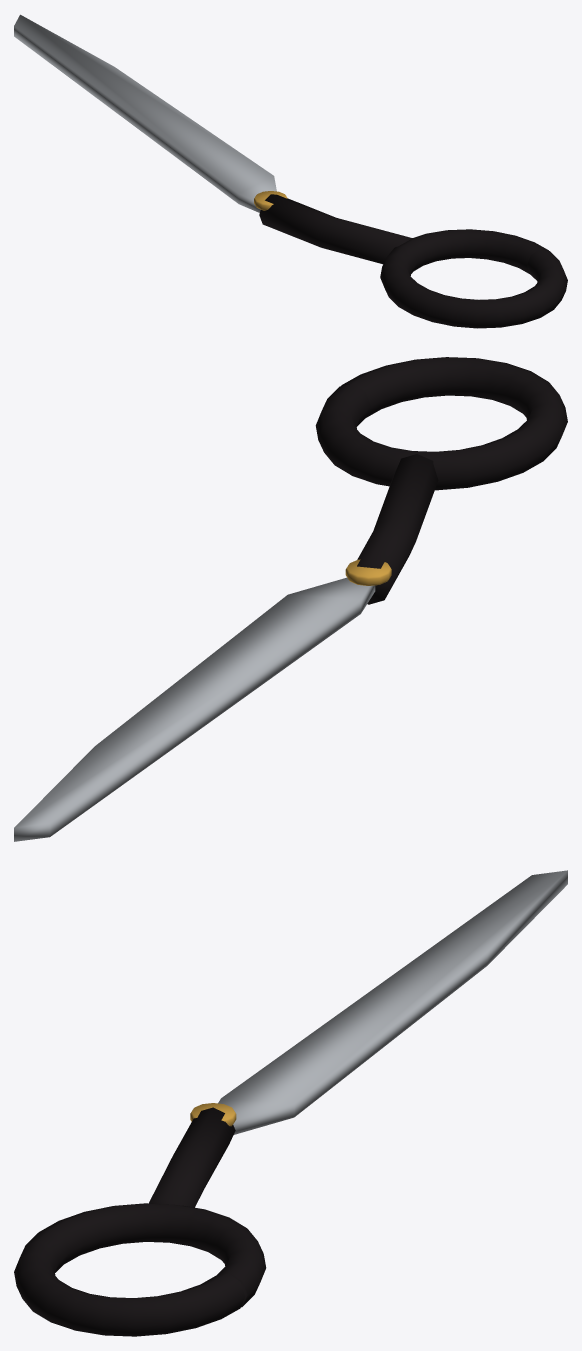
The model's file is shears_a.glb.
3 views of the same model, one above another, from view 1: azimuth 30°, elevation 25°; view 2: azimuth 150°, elevation 25°; view 3: azimuth 330°, elevation 25° (orthographic). The views are drawn at different scales.
Visible parts, largest first — view 1: prop_shears_a_lacquer, prop_shears_a_steel; view 2: prop_shears_a_lacquer, prop_shears_a_steel, prop_shears_a_brass; view 3: prop_shears_a_lacquer, prop_shears_a_steel.
Boxes of the visible parts, x1=… form: prop_shears_a_lacquer: x1=259, y1=194, x2=567, y2=328; prop_shears_a_steel: x1=14, y1=14, x2=276, y2=212; prop_shears_a_lacquer: x1=315, y1=357, x2=567, y2=604; prop_shears_a_steel: x1=14, y1=577, x2=375, y2=841; prop_shears_a_brass: x1=345, y1=559, x2=391, y2=585; prop_shears_a_lacquer: x1=14, y1=1107, x2=266, y2=1336; prop_shears_a_steel: x1=218, y1=870, x2=567, y2=1134.
Bounding box in the file's own units: 0.1019 × 0.022 × 0.458.
